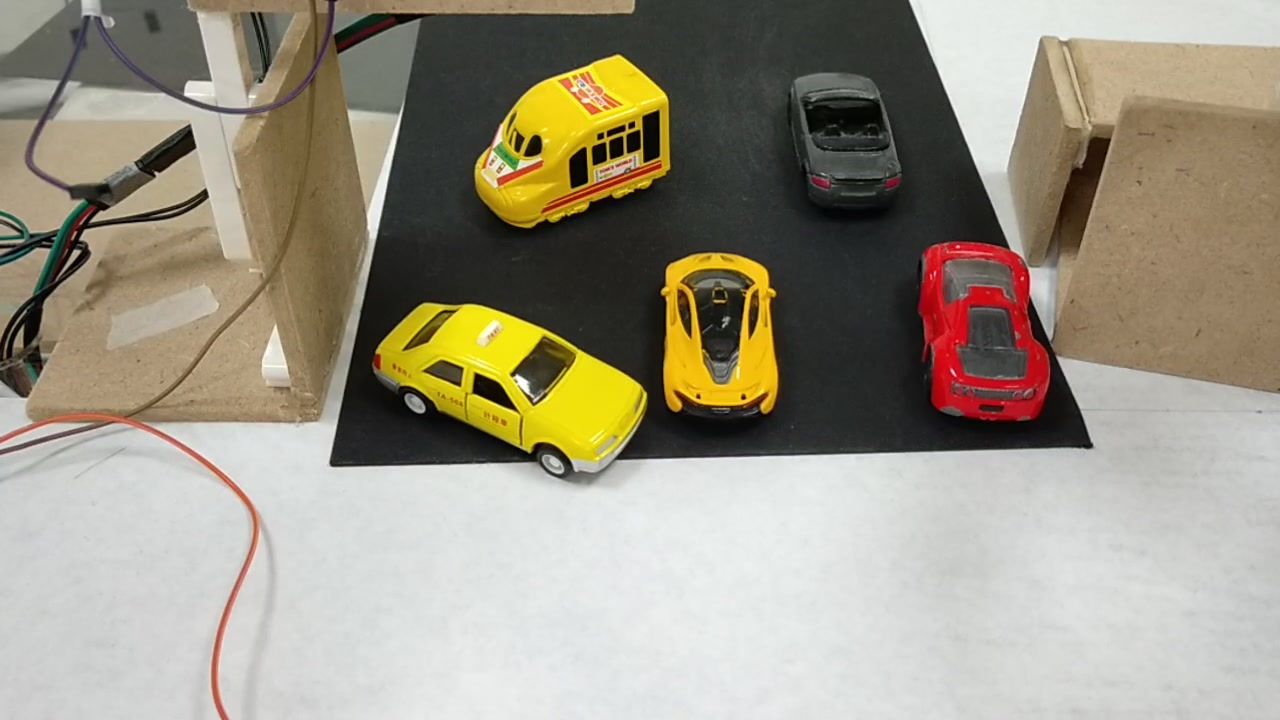car: (358, 297, 651, 490), (912, 233, 1051, 431), (649, 247, 785, 425), (779, 67, 900, 209)
